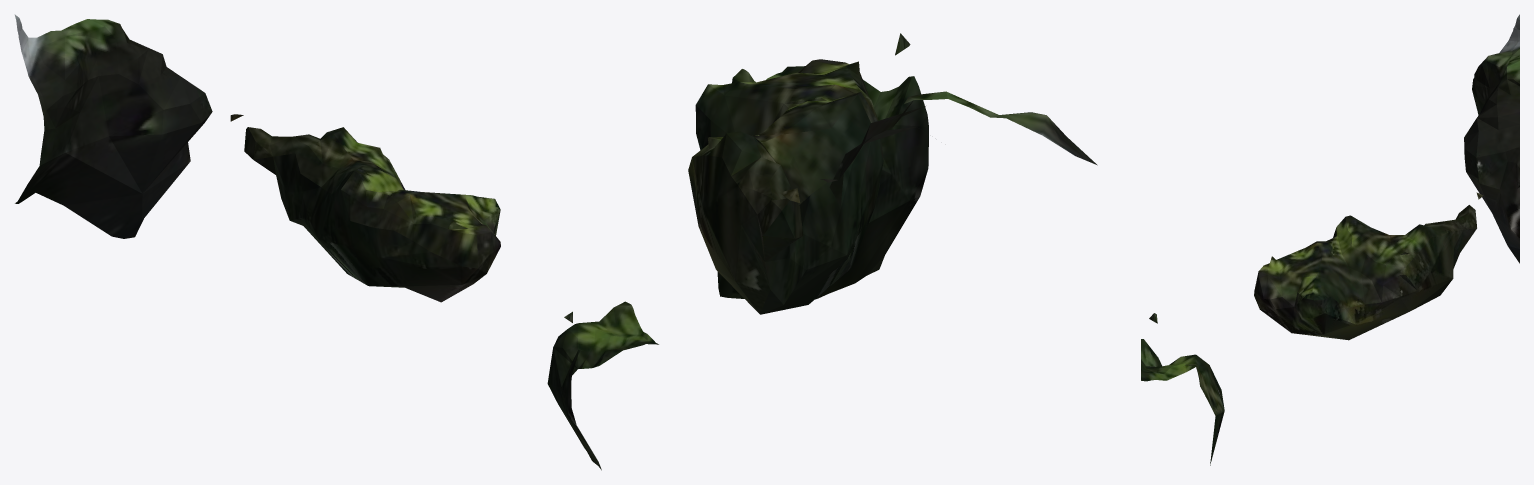
3 views of the same model, side by side, from view 1: azimuth 30°, elevation 25°; view 2: azimuth 150°, elevation 25°; view 3: azimuth 270°, elevation 25° (orthographic). The views are drawn at different scales.
Bounding box in the file's own units: 0.8373 × 0.7239 × 0.8373.
Materials: 2 (2 with a texture image).
